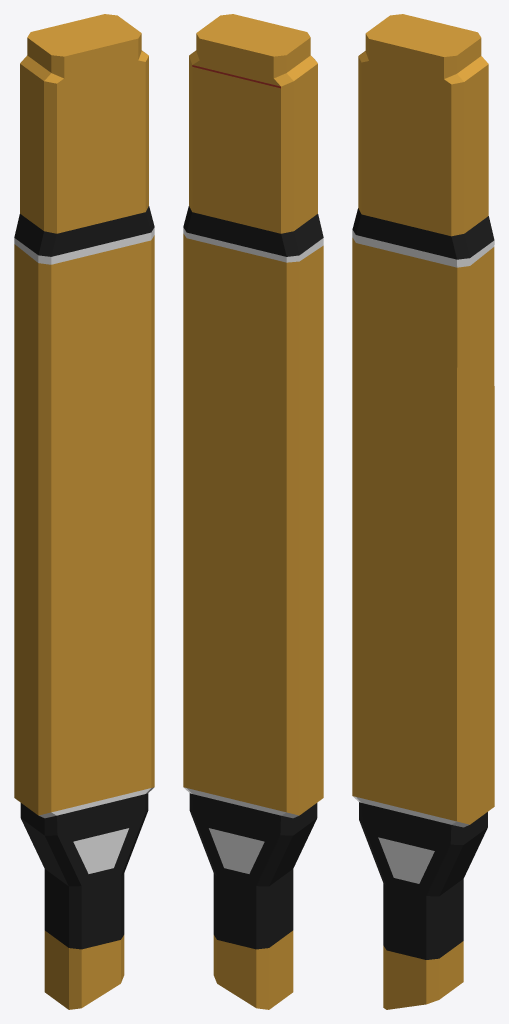
The model's file is Surligneur.fbx.
3 renders of one model, left to right at view 1: azimuth 30°, elevation 25°; view 2: azimuth 150°, elevation 25°; view 3: azimuth 330°, elevation 25°, orthographic.
Parts seen in each view (by area): view 1: Surligneur; view 2: Surligneur; view 3: Surligneur.
Part boxes in pixels (x1,y1,x2,y2): Surligneur: [14, 14, 154, 1009]; Surligneur: [183, 14, 323, 1009]; Surligneur: [352, 14, 494, 1009].
Size of the model in its own units: 1.8 by 14.16 by 0.8981.
